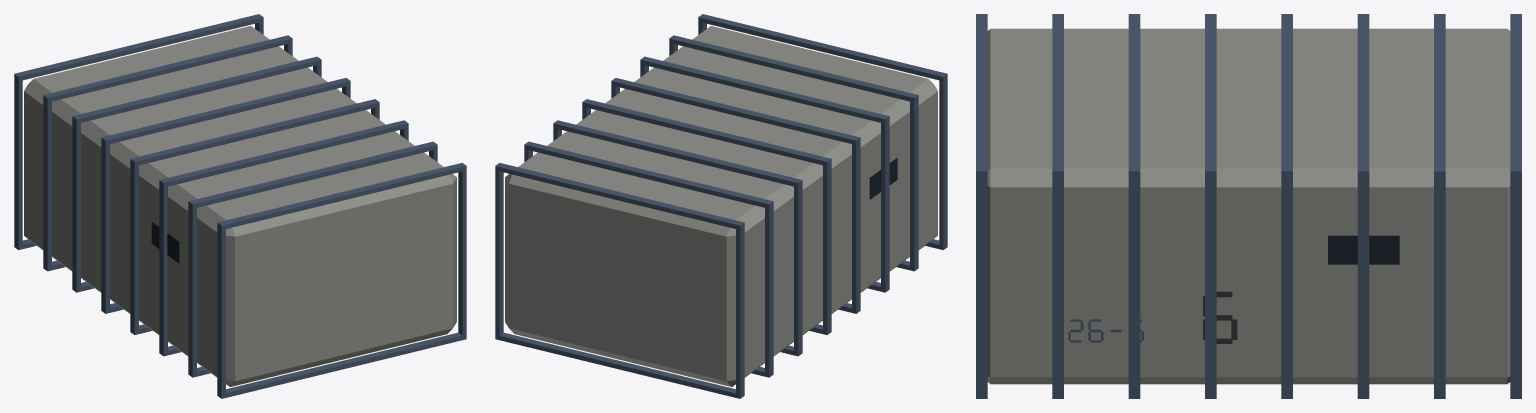
File: kz6_cell.obj
3 views of the same model, side by side, from view 1: azimuth 30°, elevation 25°; view 2: azimuth 150°, elevation 25°; view 3: azimuth 270°, elevation 25° (orthographic). The views are drawn at different scales.
Parts seen in each view (by area): view 1: kz6_cell; view 2: kz6_cell; view 3: kz6_cell.
Boxes of the visible parts, <box> form: kz6_cell: <box>14,14,466,398</box>; kz6_cell: <box>495,14,947,398</box>; kz6_cell: <box>976,14,1521,398</box>.
Size of the model in its own units: 2.59 by 1.75 by 3.8.
